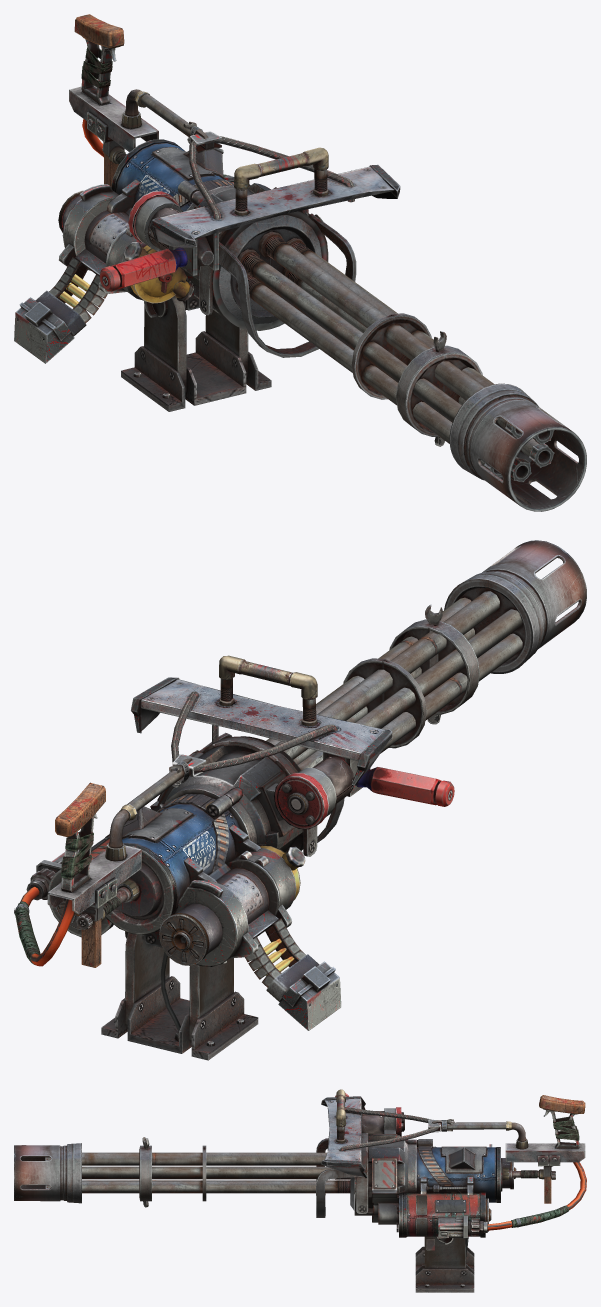
Rendered from Weapon106_Z_M134.fbx.
3 renders of one model, top to bottom at view 1: azimuth 30°, elevation 25°; view 2: azimuth 150°, elevation 25°; view 3: azimuth 270°, elevation 25°, orthographic. The views are drawn at different scales.
Visible parts, largest first — view 1: ThanSung, NongSung, Muzzle, ChanDe, DayDan; view 2: ThanSung, NongSung, ChanDe, Muzzle, DayDan; view 3: ThanSung, NongSung, Muzzle, ChanDe.
Part boxes in pixels (x1,y1,x2,y2): ThanSung: (58,14,400,357); NongSung: (218,215,538,466); Muzzle: (449,383,586,511); ChanDe: (121,296,271,411); DayDan: (14,256,107,363); ThanSung: (14,655,454,967); NongSung: (266,591,522,770); ChanDe: (101,931,258,1060); Muzzle: (444,540,586,673); DayDan: (245,918,341,1030); ThanSung: (316,1089,586,1239); NongSung: (82,1137,354,1210); Muzzle: (14,1143,81,1203); ChanDe: (415,1236,474,1292).
Bounding box in the file's own units: 40.95 × 38.99 × 112.
